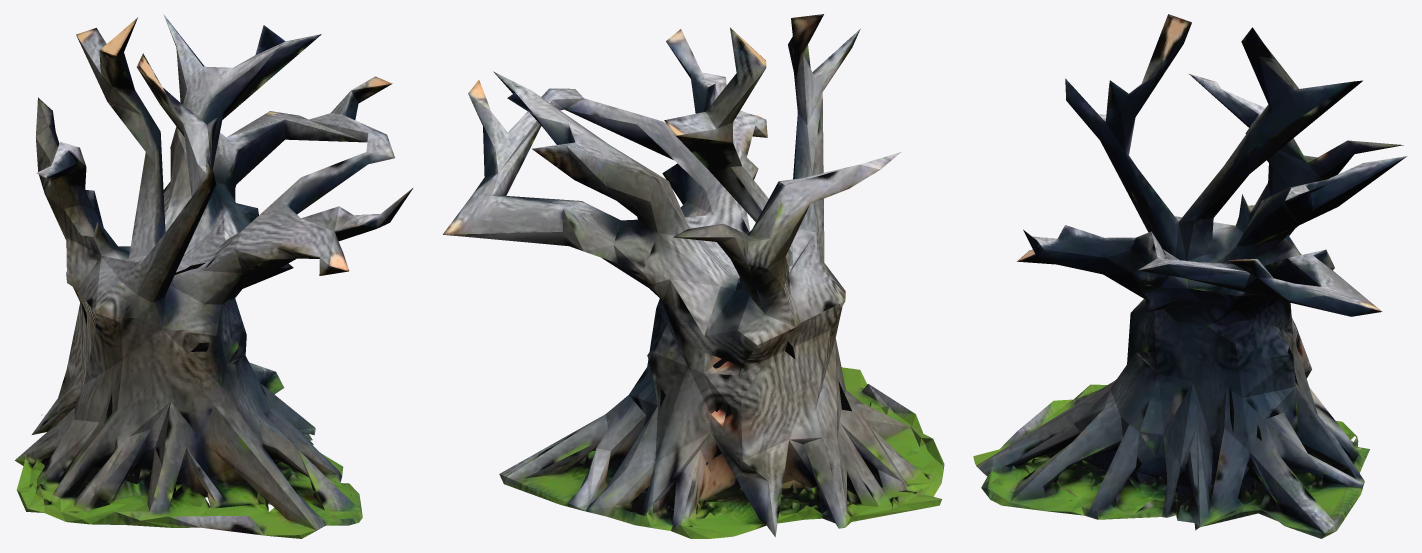
The model's file is burnt_tree_giant_01.glb.
The picture shows the model from 3 angles, left to right: view 1: azimuth 30°, elevation 25°; view 2: azimuth 150°, elevation 25°; view 3: azimuth 270°, elevation 25°; orthographic projection. The views are drawn at different scales.
Parts seen in each view (by area): view 1: geometry_0; view 2: geometry_0; view 3: geometry_0.
Part boxes in pixels (x1,y1,x2,y2): geometry_0: (15,14,412,538); geometry_0: (443,14,944,538); geometry_0: (973,14,1407,538).
Size of the model in its own units: 0.9114 by 0.9583 by 0.8743.
1 material, 1 textured.
